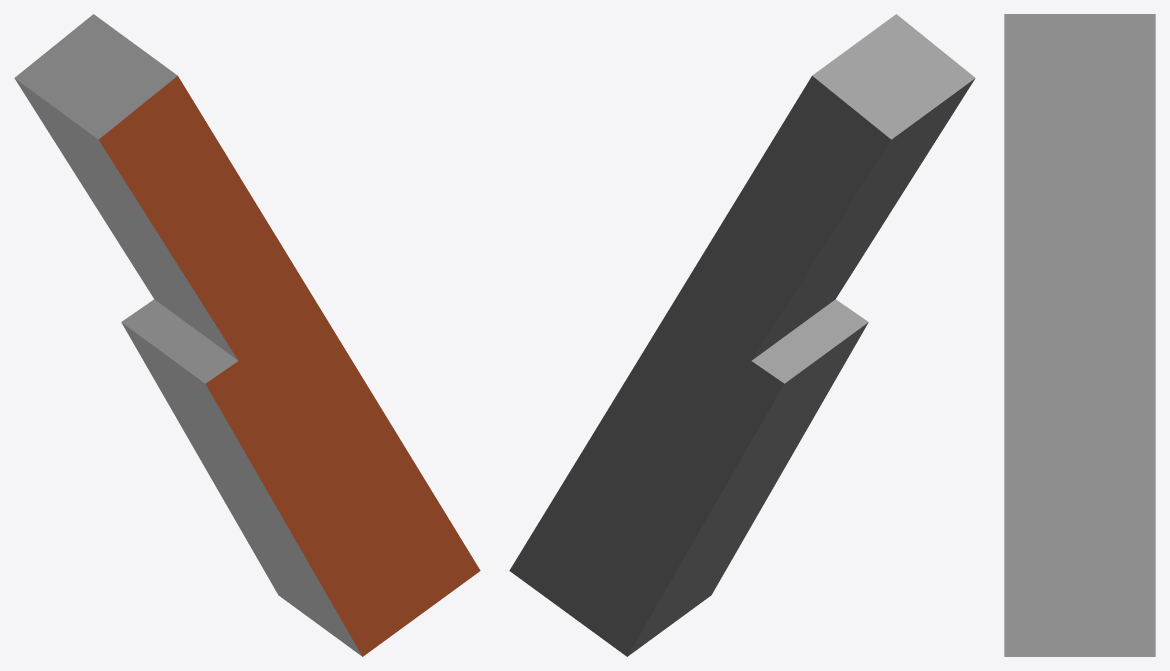
Rendered from construction_1670_assumed_A_Casa_h6m.obj.
The picture shows the model from 3 angles, left to right: view 1: azimuth 30°, elevation 25°; view 2: azimuth 150°, elevation 25°; view 3: azimuth 270°, elevation 25°; orthographic projection. The views are drawn at different scales.
Visible parts, largest first — view 1: construction_1670_assumed_A_Casa; view 2: construction_1670_assumed_A_Casa; view 3: construction_1670_assumed_A_Casa.
Part boxes in pixels (x1=…): construction_1670_assumed_A_Casa: x1=14, y1=14, x2=480, y2=656; construction_1670_assumed_A_Casa: x1=509, y1=14, x2=975, y2=656; construction_1670_assumed_A_Casa: x1=1004, y1=14, x2=1155, y2=656.
Bounding box in the file's own units: 15.71 × 24.61 × 6.
